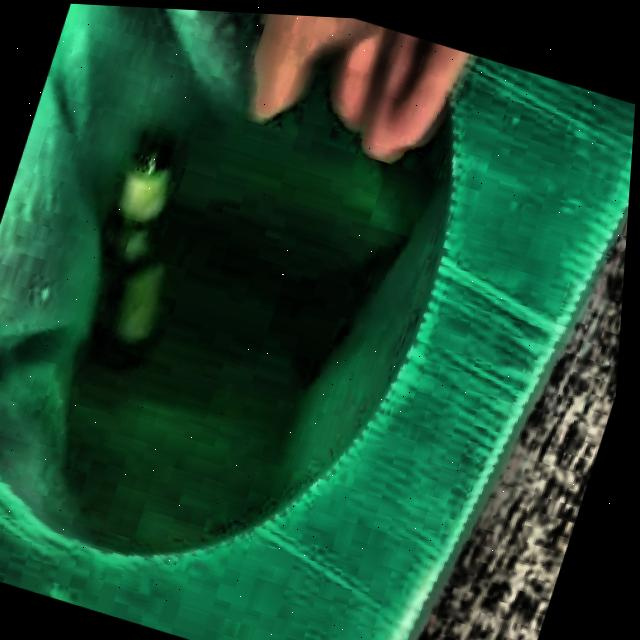glass: (93, 129, 172, 363)
